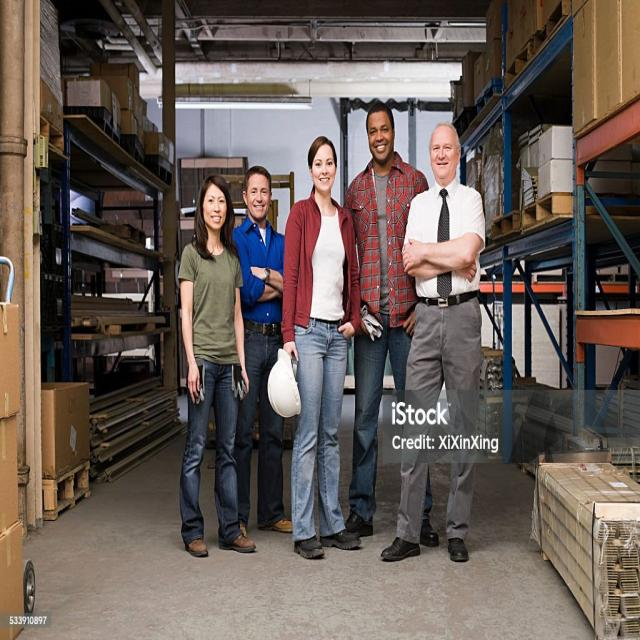Boots: (380, 533, 425, 563), (444, 524, 474, 565), (344, 506, 376, 542), (176, 520, 209, 553), (292, 533, 328, 562), (217, 533, 257, 552)
Helmet: (262, 342, 304, 431)
